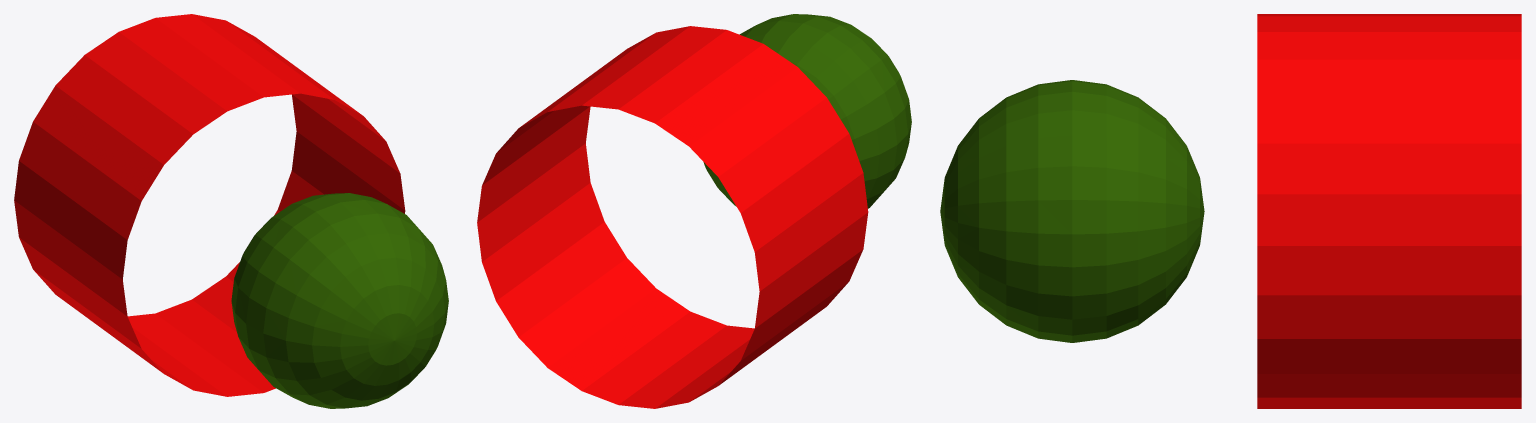
Rendered from LPEo75cm.obj.
The picture shows the model from 3 angles, left to right: view 1: azimuth 30°, elevation 25°; view 2: azimuth 150°, elevation 25°; view 3: azimuth 270°, elevation 25°; orthographic projection. The views are drawn at different scales.
Bounding box in the file's own units: 0.75 × 0.75 × 1.1.
